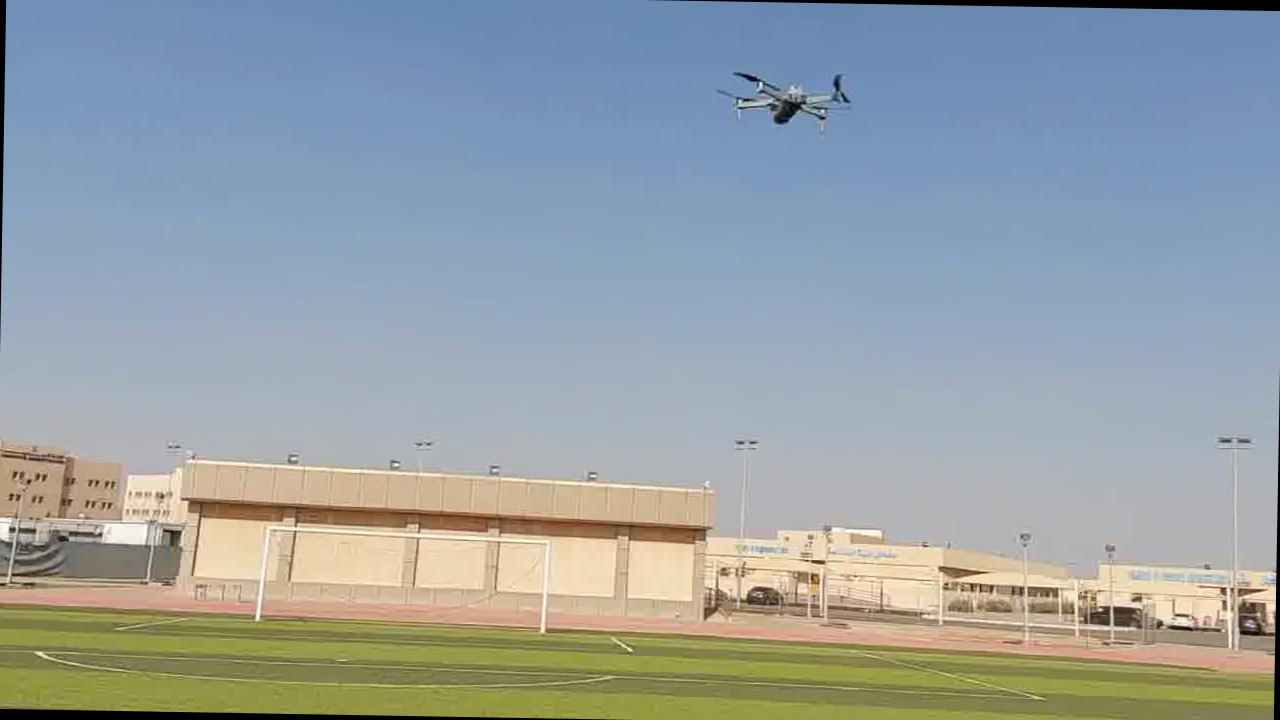drone: (709, 57, 861, 138)
